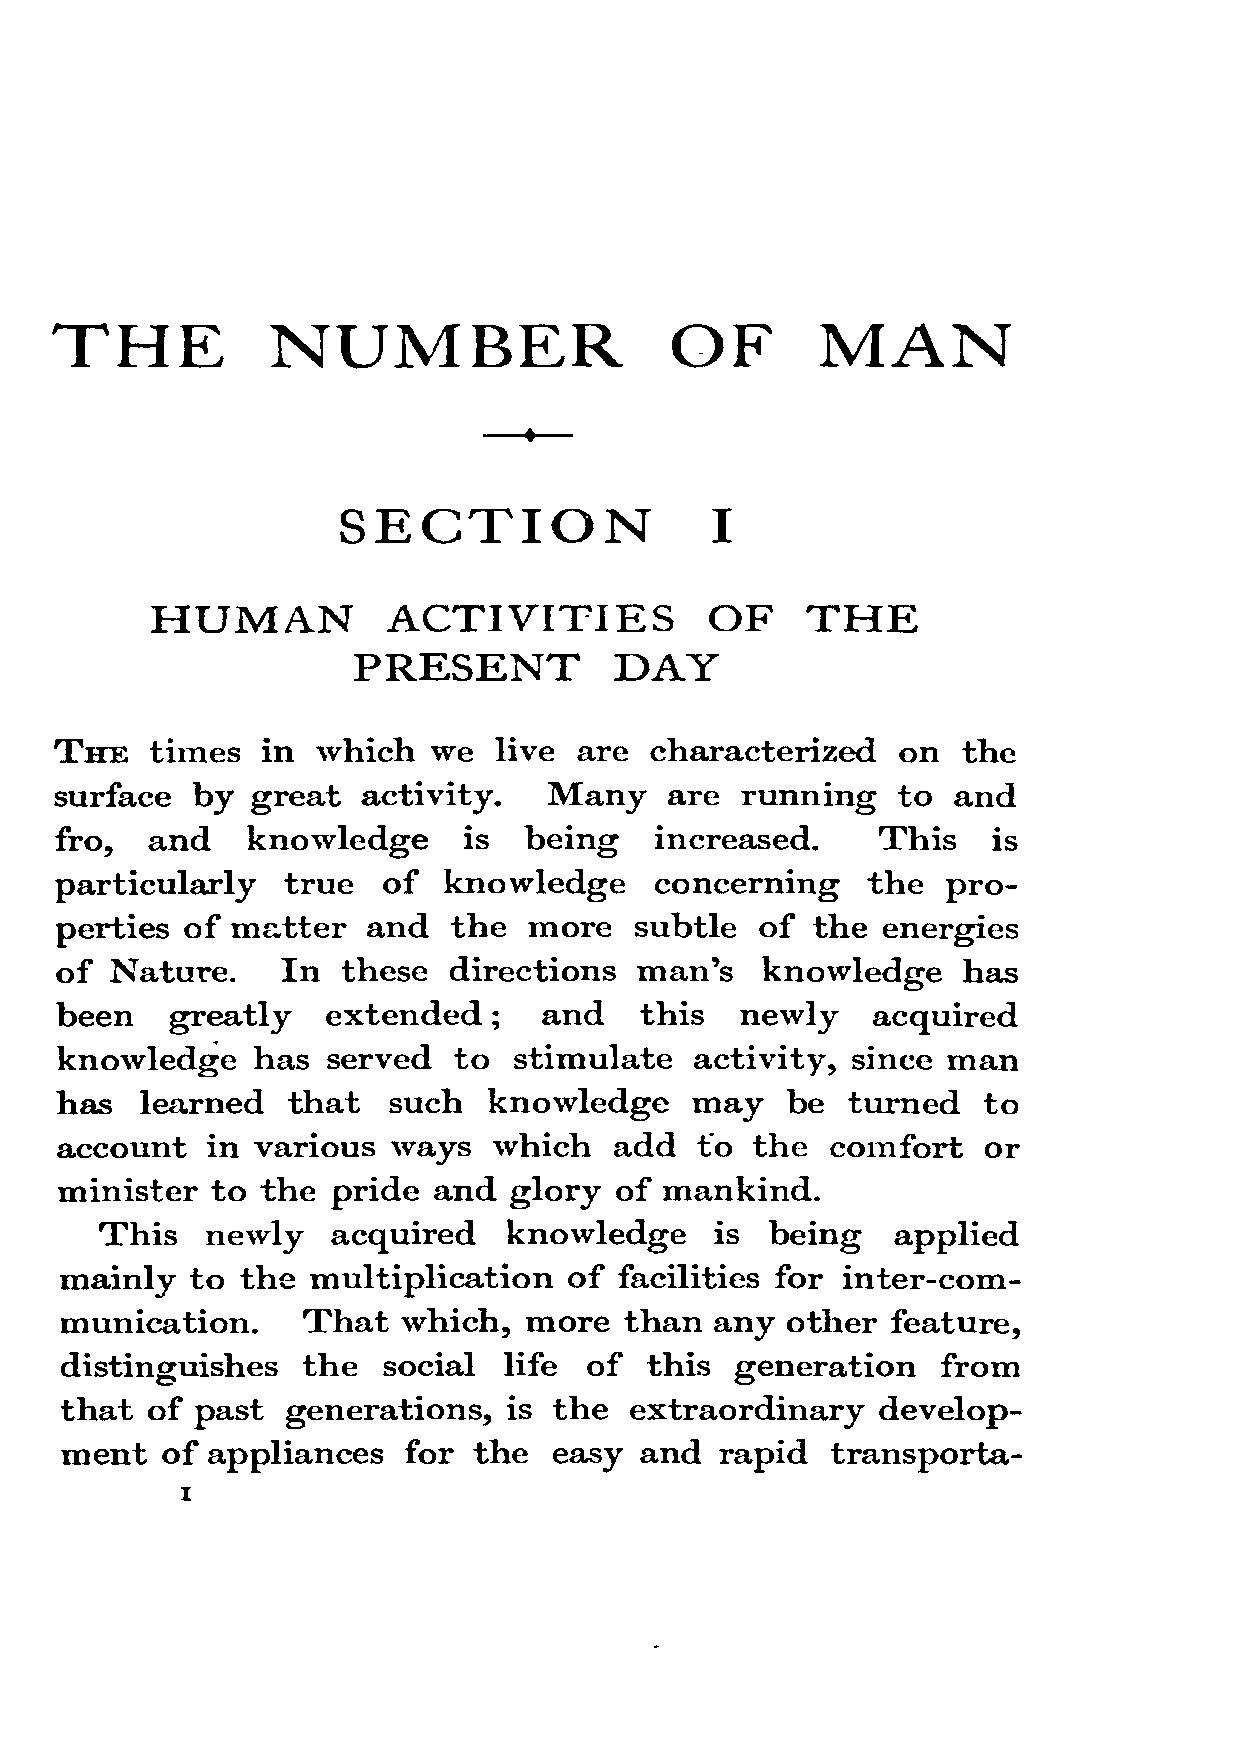chapter: (148, 506, 918, 684), (50, 318, 1009, 369)
content: (50, 733, 1020, 1475)
